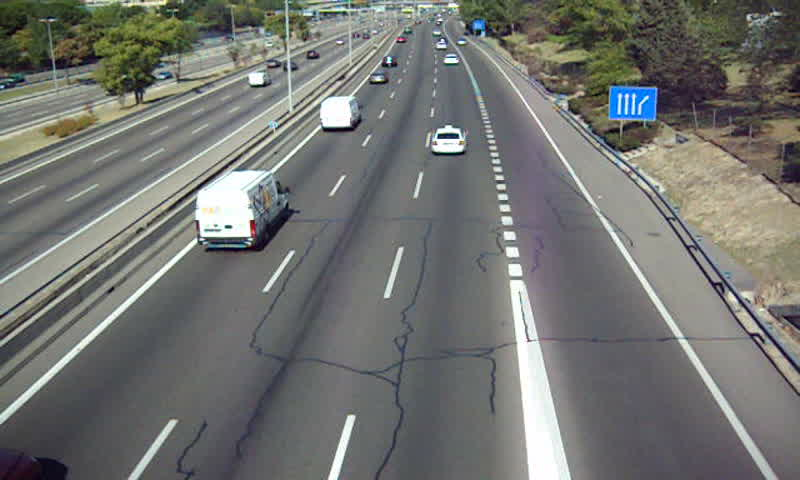car: (431, 127, 466, 156), (367, 72, 388, 86), (381, 54, 397, 69), (442, 54, 460, 67)
van: (195, 170, 291, 247), (318, 96, 361, 130)
